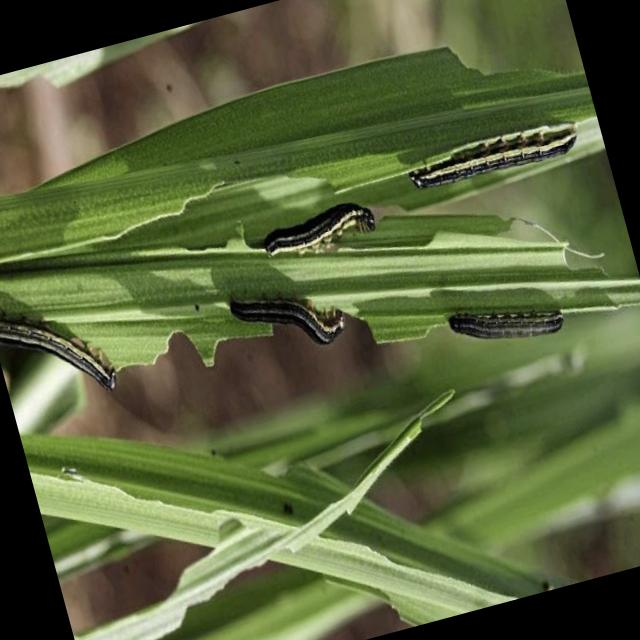pest: (406, 109, 587, 193), (1, 299, 124, 413), (232, 270, 358, 360), (446, 284, 569, 357), (259, 196, 386, 260)
